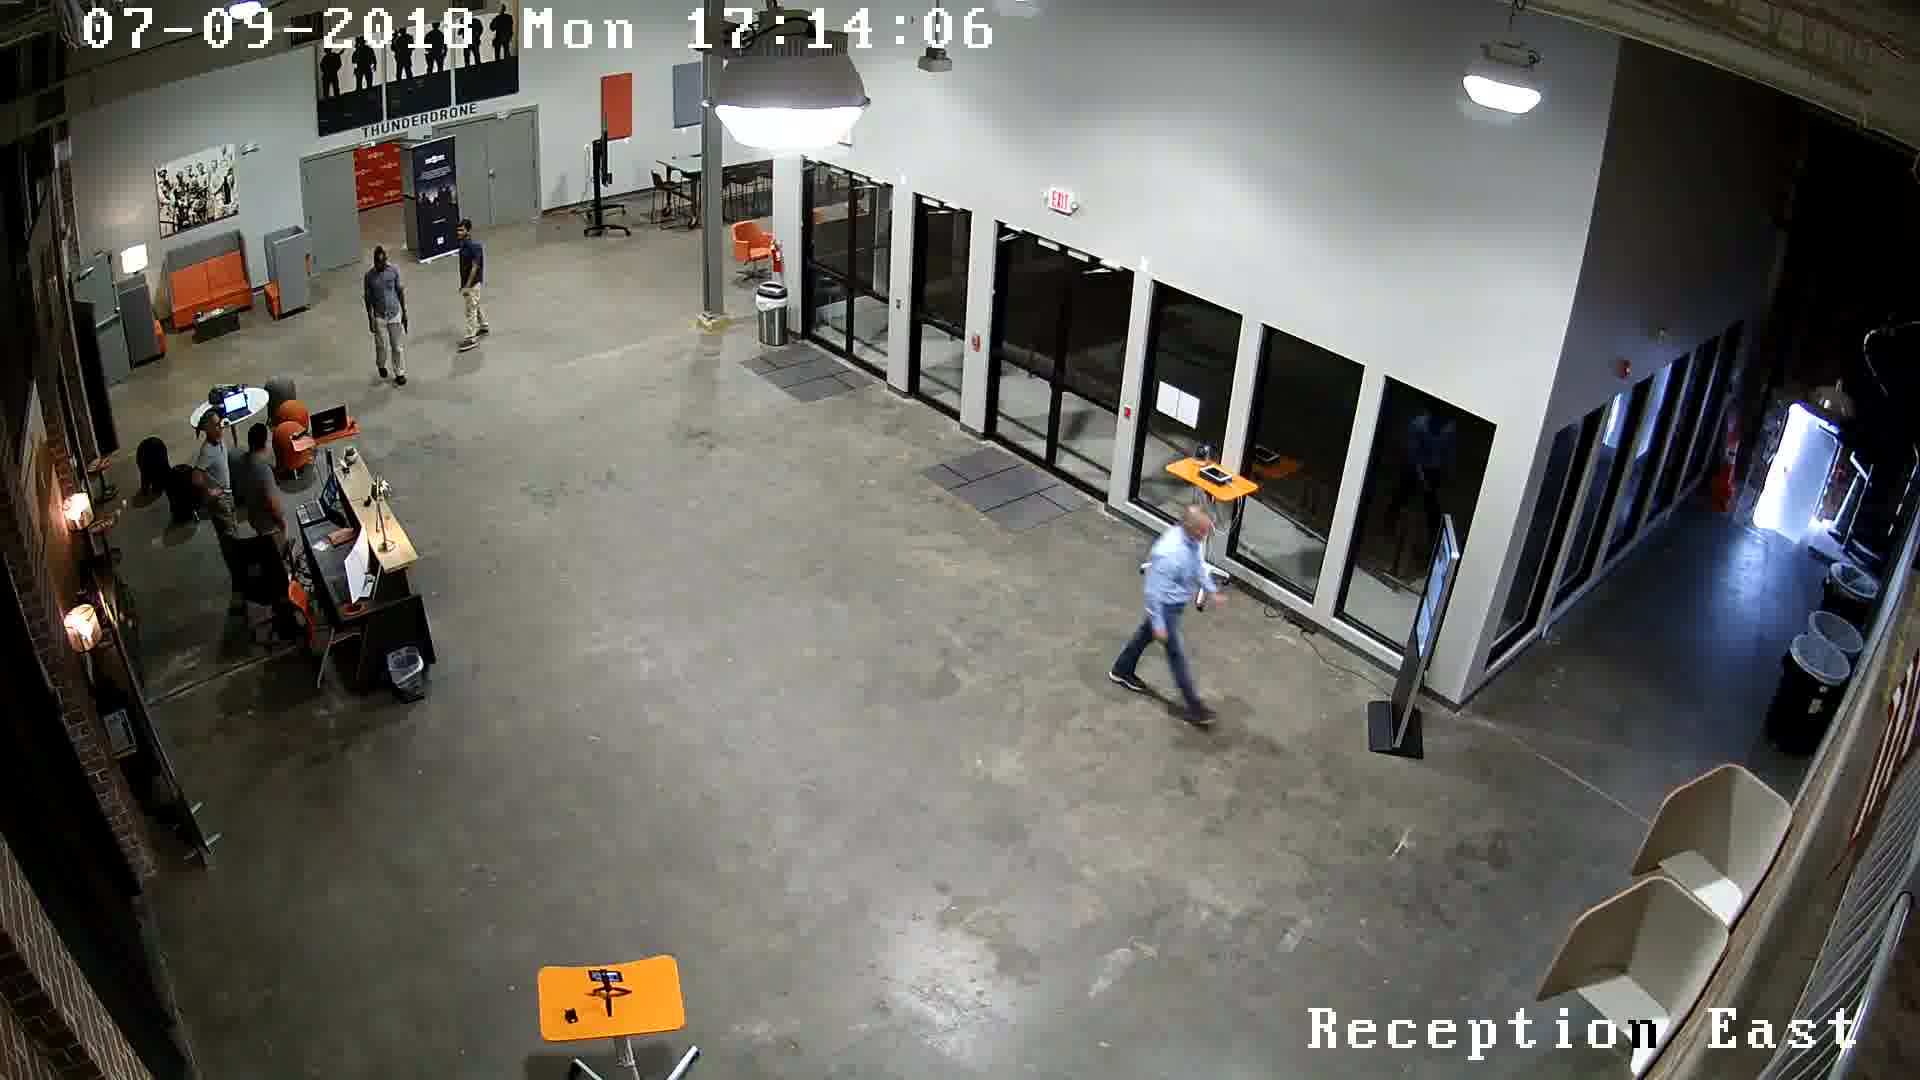pistol: (398, 311, 419, 342)
